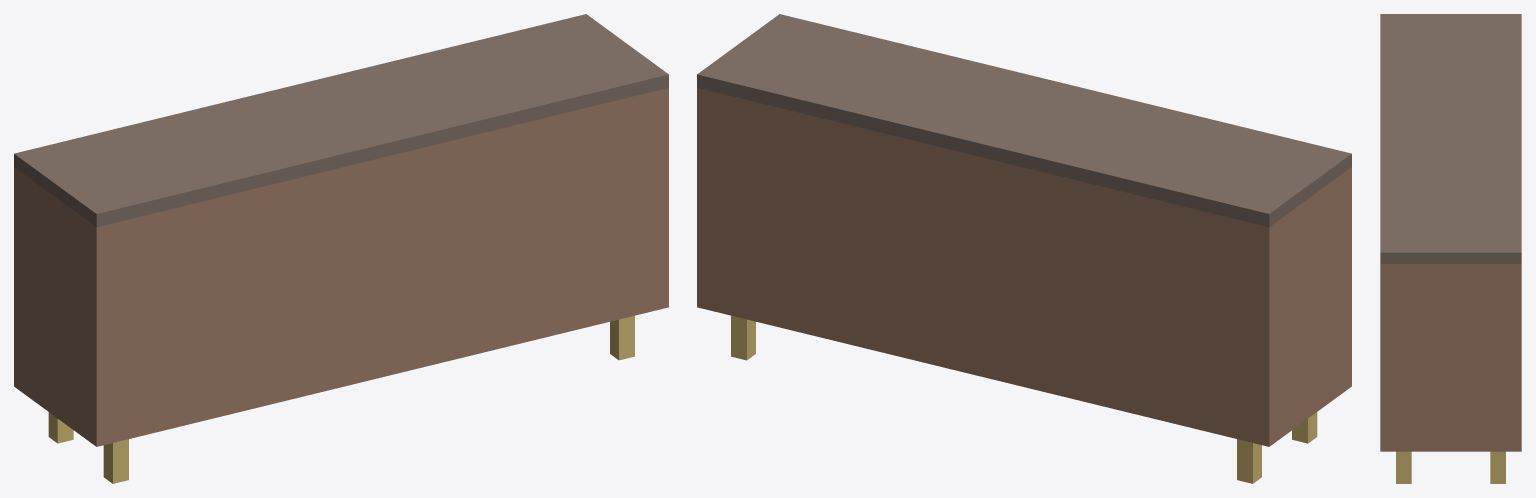
Rendered from sample.glb.
The picture shows the model from 3 angles, left to right: view 1: azimuth 30°, elevation 25°; view 2: azimuth 150°, elevation 25°; view 3: azimuth 270°, elevation 25°; orthographic projection. The views are drawn at different scales.
Parts seen in each view (by area): view 1: front_envelope_0_body, top_body, front_envelope_1_body, front_envelope_2_body, leg_0_0_body, leg_1_0_body; view 2: front_envelope_0_body, top_body, front_envelope_1_body, front_envelope_2_body, leg_1_1_body, leg_0_1_body; view 3: top_body, front_envelope_2_body, leg_1_0_body, leg_1_1_body.
Boxes of the visible parts, x1,y1,x2,y2 form: front_envelope_0_body: (14,167,287,446); top_body: (14,14,668,227); front_envelope_1_body: (287,134,478,400); front_envelope_2_body: (478,88,668,353); leg_0_0_body: (103,439,128,483); leg_1_0_body: (610,315,634,360); front_envelope_0_body: (1078,167,1351,446); top_body: (697,14,1351,227); front_envelope_1_body: (887,134,1078,400); front_envelope_2_body: (697,88,887,353); leg_1_1_body: (731,315,755,360); leg_0_1_body: (1237,439,1261,483); top_body: (1380,14,1521,263); front_envelope_2_body: (1380,264,1521,451); leg_1_0_body: (1396,451,1411,483); leg_1_1_body: (1490,451,1505,483).
Size of the model in its own units: 1.8 by 0.85 by 0.45.
